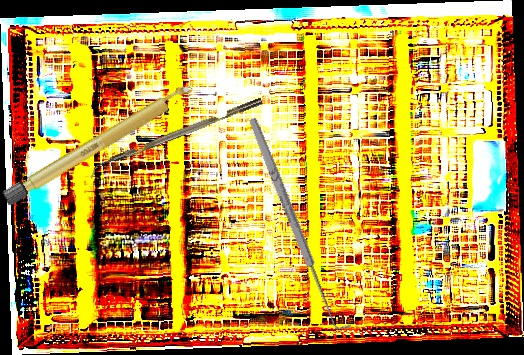Chopper: (85, 97, 267, 180)
Hook Surgical: (244, 111, 353, 337)
Scalpel Handle: (0, 79, 198, 208)
